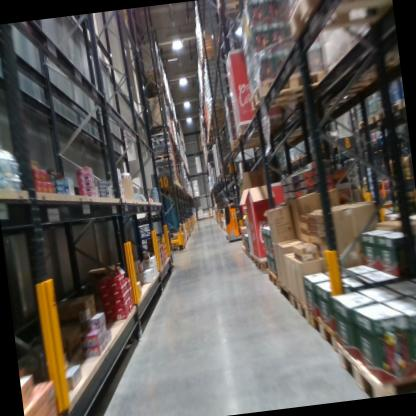forklift: (152, 0, 263, 165)
pallet: (212, 0, 395, 246), (335, 336, 416, 399), (238, 59, 331, 110), (309, 310, 361, 354), (224, 127, 278, 151), (228, 114, 277, 138), (289, 289, 314, 331), (381, 92, 406, 125), (366, 106, 386, 128), (277, 279, 292, 305), (254, 256, 271, 278), (268, 269, 282, 294), (351, 114, 368, 130)
